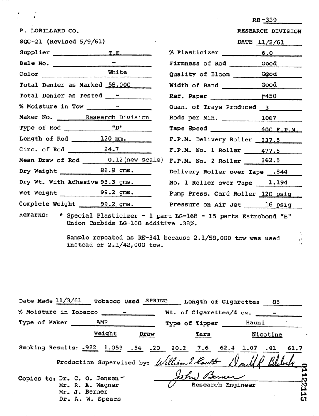textline: (152, 370, 302, 383), (153, 355, 302, 368), (41, 69, 152, 79), (209, 92, 302, 102), (51, 47, 151, 56), (56, 113, 152, 122), (70, 318, 155, 328), (59, 189, 152, 198), (210, 124, 303, 133), (52, 59, 152, 67), (59, 168, 151, 176), (221, 319, 302, 328), (64, 124, 152, 132), (67, 146, 151, 154), (221, 82, 302, 90), (86, 102, 153, 111), (229, 60, 302, 68), (221, 50, 302, 57), (71, 136, 152, 143), (221, 115, 302, 122), (82, 157, 152, 165), (233, 71, 302, 79), (101, 307, 155, 317), (243, 202, 302, 210), (78, 202, 151, 208), (255, 38, 302, 47), (243, 148, 302, 155), (243, 158, 302, 165), (104, 92, 152, 100), (104, 81, 151, 89), (255, 180, 302, 188), (262, 16, 302, 25), (262, 297, 302, 306), (100, 179, 151, 186), (142, 297, 181, 306), (254, 310, 302, 317), (255, 137, 302, 144), (258, 191, 302, 198), (259, 104, 302, 111), (55, 297, 91, 305), (266, 169, 302, 176), (262, 345, 280, 353), (82, 344, 99, 352), (104, 344, 121, 352), (127, 344, 144, 352), (149, 345, 166, 353), (171, 345, 188, 353), (194, 345, 211, 353), (217, 345, 234, 353), (240, 345, 257, 353), (285, 346, 302, 354)
